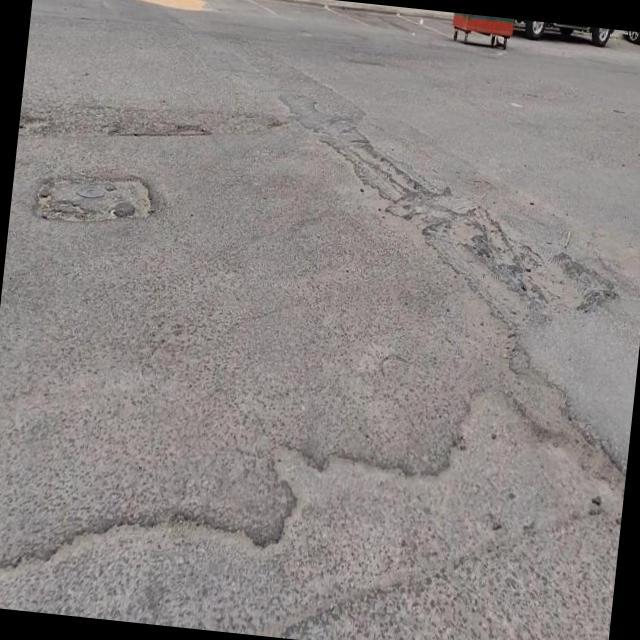Pothole: (35, 171, 154, 223)
